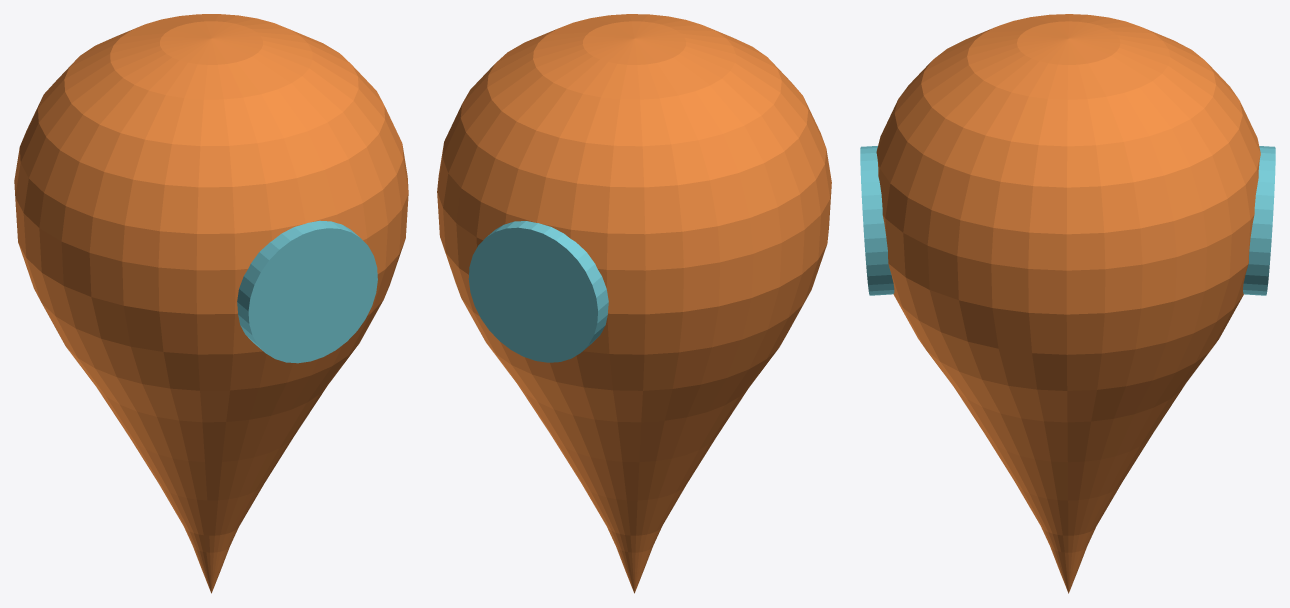
The model's file is pin1.gltf.
3 renders of one model, left to right at view 1: azimuth 30°, elevation 25°; view 2: azimuth 150°, elevation 25°; view 3: azimuth 270°, elevation 25°, orthographic.
Visible parts, largest first — view 1: Sphere, Cylinder.002; view 2: Sphere, Cylinder.001; view 3: Sphere, Cylinder.002, Cylinder.001.
Boxes of the visible parts, x1=… form: Sphere: x1=14, y1=14, x2=408, y2=593; Cylinder.002: x1=237, y1=220, x2=377, y2=363; Sphere: x1=437, y1=14, x2=831, y2=593; Cylinder.001: x1=468, y1=221, x2=608, y2=362; Sphere: x1=876, y1=14, x2=1260, y2=593; Cylinder.002: x1=860, y1=146, x2=894, y2=295; Cylinder.001: x1=1243, y1=146, x2=1275, y2=295.
Bounding box in the file's own units: 1.49 × 2.31 × 1.56.
